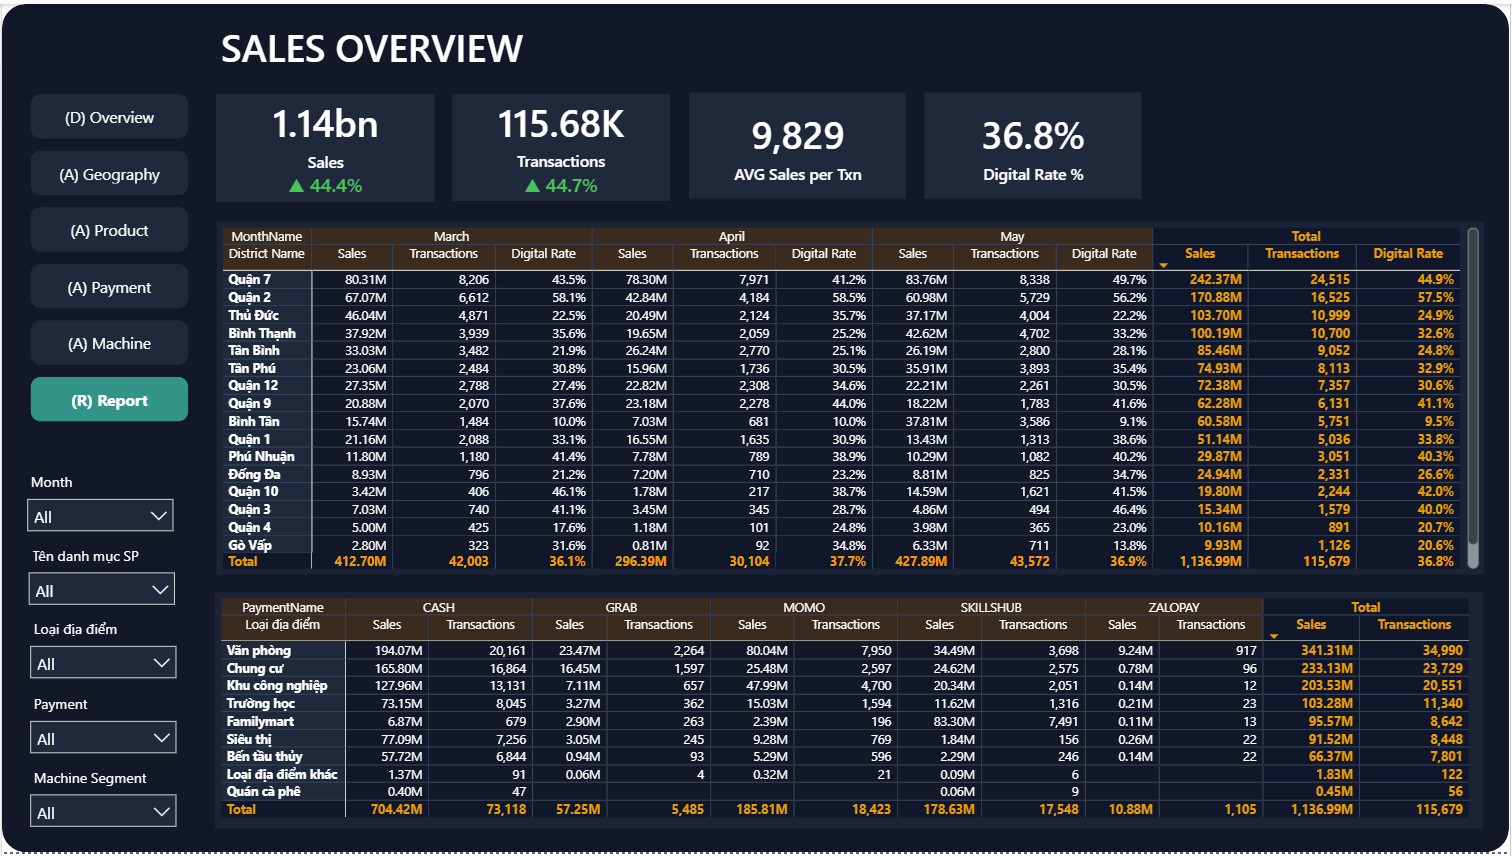

Layout of this report page (visuals, bound fields, positions):
{"tool":"powerbi","page":{"name":"(R) Report","canvas":[1280,720],"ordinal":5},"visuals":[{"type":"group","id":"g1","title":"Background","box":[0,0,1279.1,720],"z":0},{"type":"shape","box":[0,0,1279.1,720],"z":0,"group":"g1"},{"type":"slicer","fields":{"Values":["dDate.MonthName"]},"box":[11.9,391.7,143.7,59.3],"z":0,"group":"g2"},{"type":"textbox","box":[180.8,8.9,283.9,54.7],"z":1000},{"type":"card","fields":{"Values":["Sum(fBanHang.Sales)"]},"box":[182.2,76.4,184.7,67.3],"z":1000,"group":"g3"},{"type":"card","fields":{"Values":["CountNonNull(fBanHang.Id)"]},"box":[382.7,76.4,184.4,66.2],"z":1000,"group":"g4"},{"type":"slicer","fields":{"Values":["dSanPham.Tên danh mục SP"]},"box":[13.2,454.3,143.7,59.3],"z":1000,"group":"g2"},{"type":"card","fields":{"Values":["Avg(fBanHang.Sales)"]},"box":[582.8,75.7,184.3,90],"z":2000},{"type":"slicer","fields":{"Values":["dDiaDiemCha.Loại địa điểm"]},"box":[14.5,517,143.7,59.3],"z":2000,"group":"g2"},{"type":"group","id":"g2","title":"Filter","box":[11.9,391.7,146.4,309.9],"z":3000},{"type":"slicer","fields":{"Values":["dPaymentType.PaymentName"]},"box":[14.5,579.6,143.7,59.3],"z":3000,"group":"g2"},{"type":"group","id":"g3","title":"Group 2","box":[182.1,76.4,184.6,91.7],"z":4000},{"type":"card","fields":{"Values":["fBanHang.MoM% Transactions Label"]},"box":[382.5,141.2,184.4,25.6],"z":4000,"group":"g4"},{"type":"card","fields":{"Values":["fBanHang.MoM% Sales Label"]},"box":[182.1,141.6,184.4,26.2],"z":4000,"group":"g3"},{"type":"slicer","fields":{"Values":["fBanHang.Machine Segment"]},"box":[14.5,642.3,143.7,59.3],"z":4000,"group":"g2"},{"type":"group","id":"g4","title":"Group 2","box":[382.5,76.4,184.5,90.5],"z":5000},{"type":"card","fields":{"Values":["fBanHang.Digital Rate %"]},"box":[782.9,75.7,184.3,90],"z":6000},{"type":"pageNavigator","box":[23.7,76.5,134.5,283.5],"z":7000},{"type":"pivotTable","fields":{"Columns":["dDate.MonthName Hierarchy.MonthName","dDate.MonthName Hierarchy.Week","dDate.MonthName Hierarchy.Date"],"Values":["Sum(fBanHang.Sales)","fBanHang.COUNT_Transaction","fBanHang.Digital Rate %"],"Rows":["dDiaDiemCha.District Name"]},"box":[182,184.6,1076.1,299.3],"z":8000},{"type":"pivotTable","fields":{"Rows":["dDiaDiemCha.Loại địa điểm"],"Values":["Sum(fBanHang.Sales)","fBanHang.COUNT_Transaction"],"Columns":["dPaymentType.PaymentName"]},"box":[180.7,498.5,1076.1,200.4],"z":9000}]}

Visuals, with their boxes in screenshot pixels (x1, y1, x2, y2), scaled from the page's 1280x720 canvas onto the 1512x856 screenshot:
"Background" group: (0,0,1511,855)
shape: (0,0,1511,855)
slicer - dDate.MonthName: (14,466,184,536)
textbox: (214,11,549,76)
card - Sum(fBanHang.Sales): (215,91,433,171)
card - CountNonNull(fBanHang.Id): (452,91,670,170)
slicer - dSanPham.Tên danh mục SP: (16,540,185,611)
card - Avg(fBanHang.Sales): (688,90,906,197)
slicer - dDiaDiemCha.Loại địa điểm: (17,615,187,685)
"Filter" group: (14,466,187,834)
slicer - dPaymentType.PaymentName: (17,689,187,760)
"Group 2" group: (215,91,433,200)
card - fBanHang.MoM% Transactions Label: (452,168,670,198)
card - fBanHang.MoM% Sales Label: (215,168,433,199)
slicer - fBanHang.Machine Segment: (17,764,187,834)
"Group 2" group: (452,91,670,198)
card - fBanHang.Digital Rate %: (925,90,1143,197)
pageNavigator: (28,91,187,428)
pivotTable - dDate.MonthName Hierarchy.MonthName x dDate.MonthName Hierarchy.Week: (215,219,1486,575)
pivotTable - dDiaDiemCha.Loại địa điểm x Sum(fBanHang.Sales): (213,593,1485,831)
